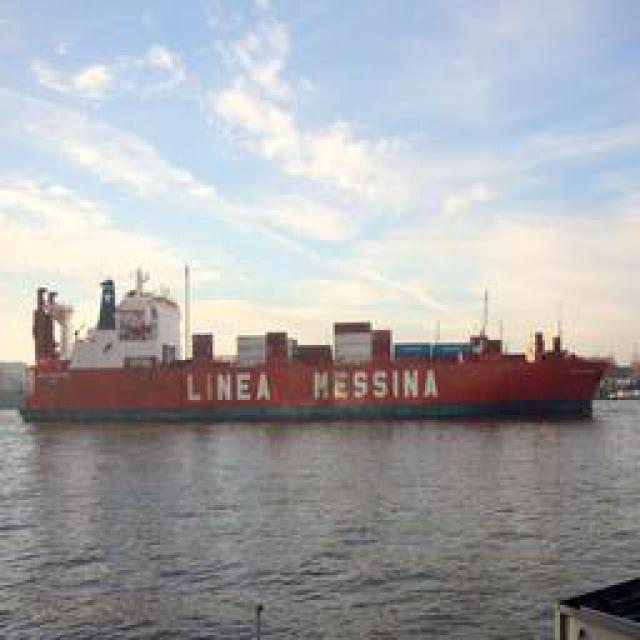Ship: (13, 282, 618, 425)
